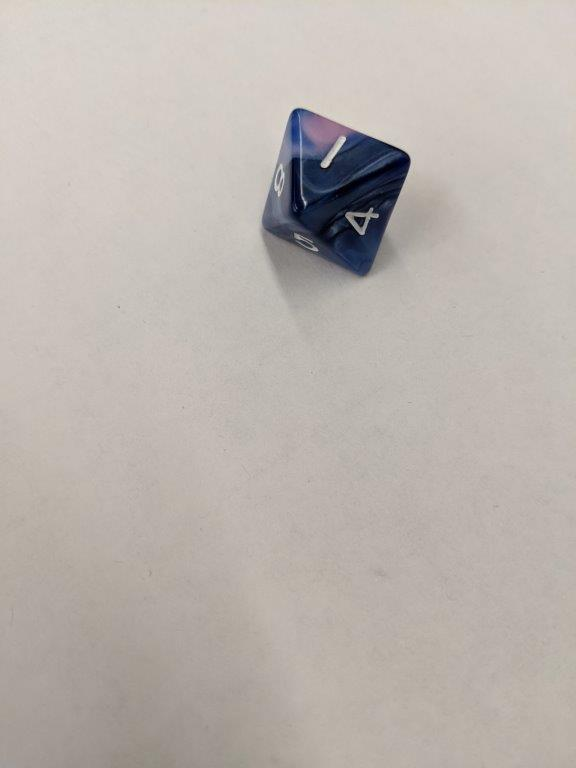d8-1: (256, 107, 412, 279)
